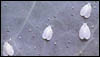whitefly: (78, 22, 91, 41), (78, 2, 92, 19), (2, 38, 14, 56), (41, 24, 52, 41)
